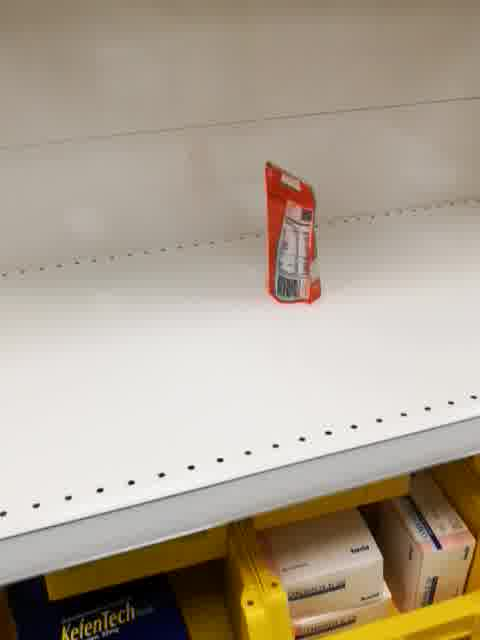whitechia: (261, 160, 325, 308)
